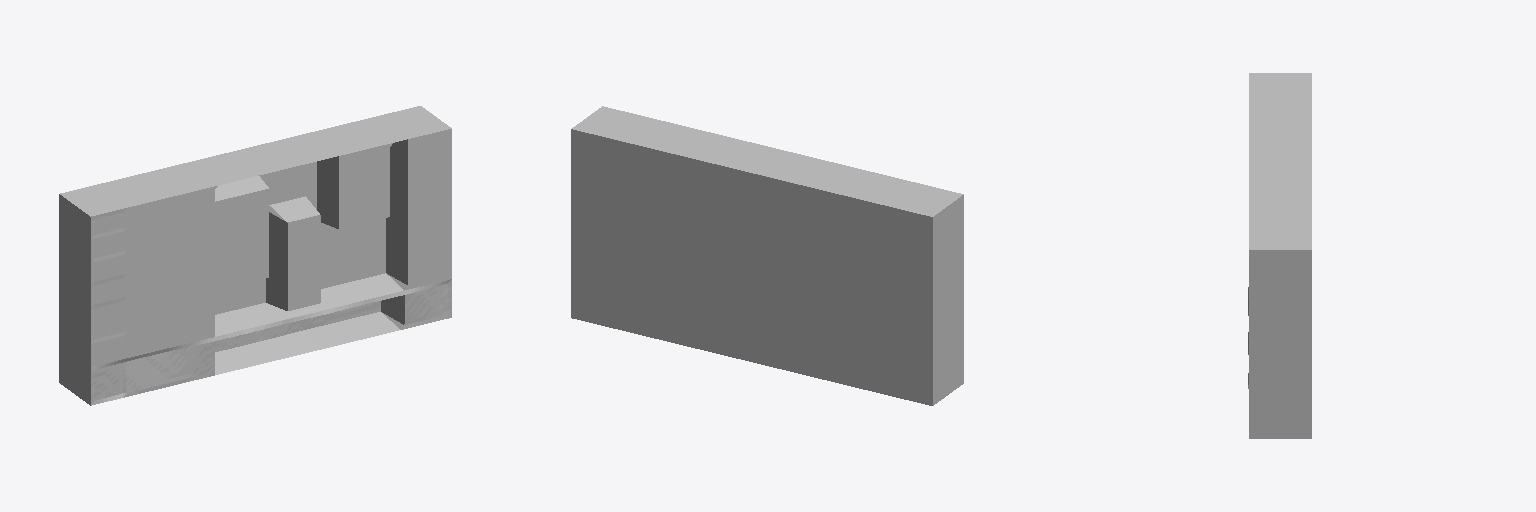
Rendered from rectangular_prism_bumps_5_9.obj.
3 views of the same model, side by side, from view 1: azimuth 30°, elevation 25°; view 2: azimuth 150°, elevation 25°; view 3: azimuth 270°, elevation 25° (orthographic).
Size of the model in its own units: 10 by 5 by 1.53.